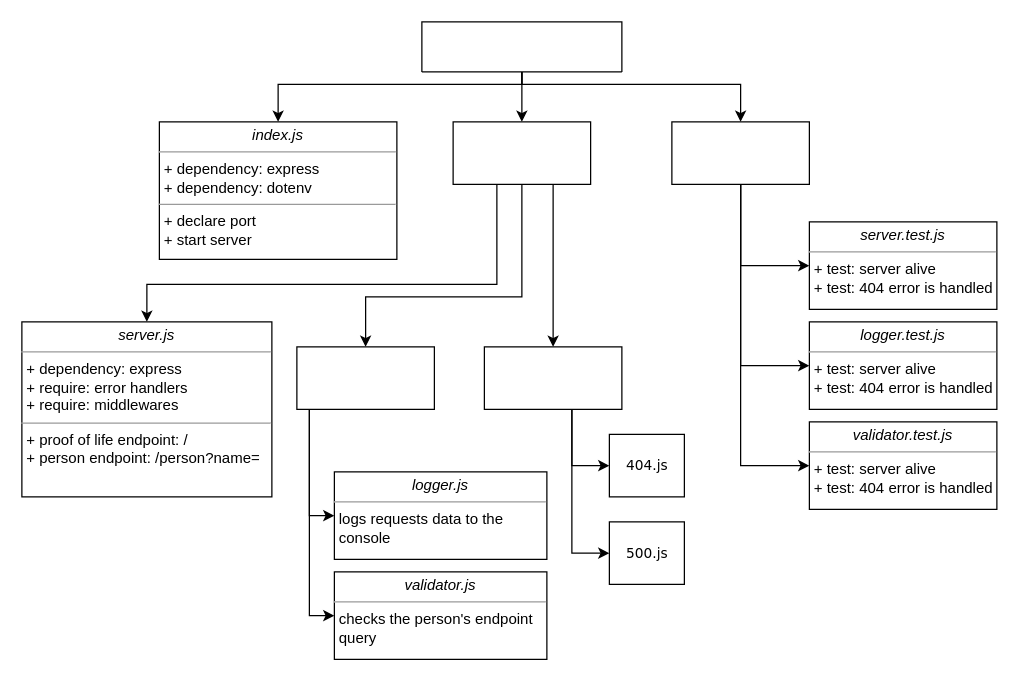
Image size: 1019x681. Some labels were removed from this diagram. Each missing label, with the centre of its shape:
"error handlers" belongs at point (552, 377).
"middleware" belongs at point (365, 377).
"server response" belongs at point (521, 46).
"src f iles" belongs at point (521, 152).
"tests" belongs at point (740, 152).
